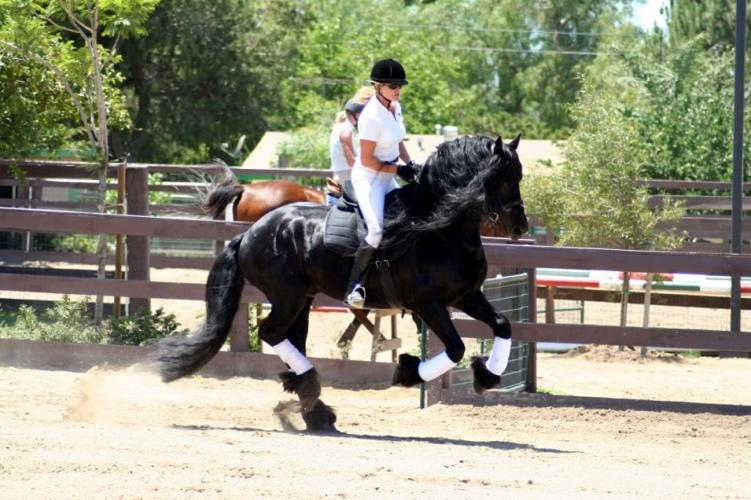person: (351, 58, 415, 308)
